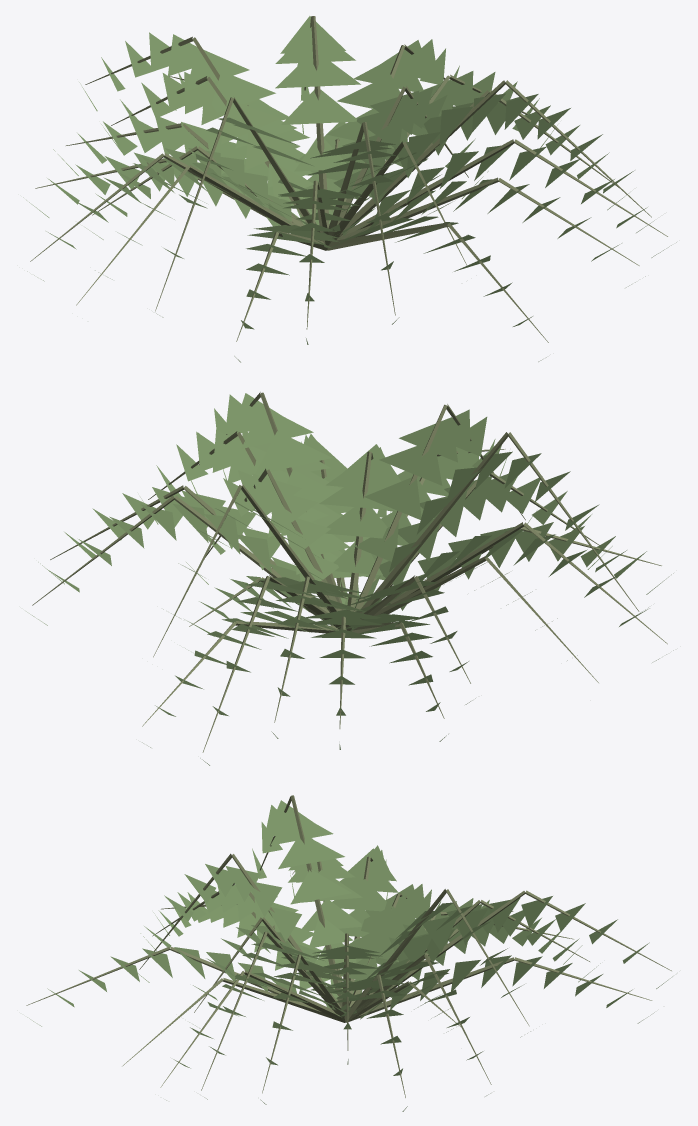
The model's file is fern_clump.gltf.
3 renders of one model, top to bottom at view 1: azimuth 30°, elevation 25°; view 2: azimuth 150°, elevation 25°; view 3: azimuth 270°, elevation 25°, orthographic. The views are drawn at different scales.
Parts seen in each view (by area): view 1: Environment_HD_Source; view 2: Environment_HD_Source; view 3: Environment_HD_Source.
Part boxes in pixels (box(x1,y1,x2,y2)): Environment_HD_Source: box(23, 16, 676, 362); Environment_HD_Source: box(26, 392, 673, 765); Environment_HD_Source: box(26, 795, 672, 1111).
Bounding box in the file's own units: 2.36 × 0.8216 × 2.84.
